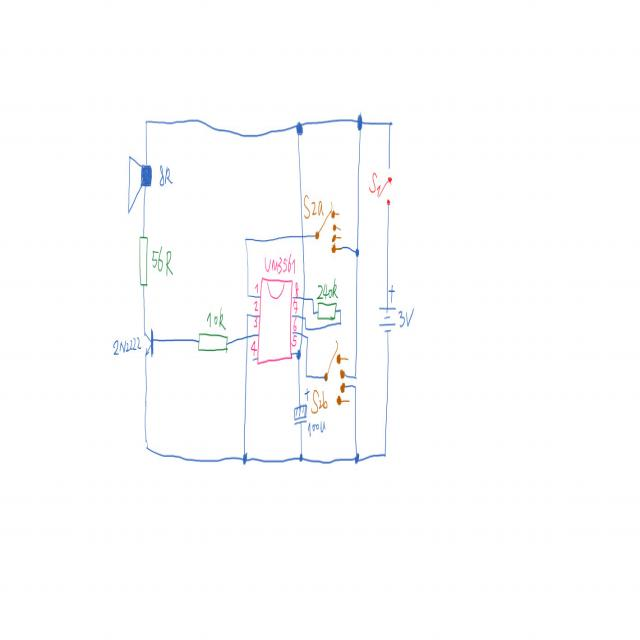capacitor: (291, 384, 311, 428)
crossover: (244, 331, 249, 342), (300, 230, 304, 240), (300, 330, 303, 336), (301, 312, 303, 320), (302, 295, 304, 300)
junction: (355, 111, 363, 131), (295, 119, 303, 136), (241, 450, 248, 464), (295, 346, 301, 360), (144, 440, 150, 453), (353, 451, 359, 463), (387, 116, 393, 128), (143, 116, 149, 128), (244, 308, 250, 320), (354, 245, 359, 258), (298, 449, 303, 462), (352, 381, 357, 392), (352, 370, 357, 380), (382, 449, 387, 458), (245, 289, 250, 298), (304, 370, 308, 380), (304, 331, 308, 341), (243, 234, 247, 243), (310, 296, 314, 303), (339, 318, 341, 326), (338, 306, 341, 310), (304, 316, 306, 320), (312, 310, 314, 314), (304, 324, 306, 328)
resistor: (196, 328, 229, 356), (134, 233, 149, 288), (315, 301, 337, 320)
source: (378, 282, 398, 335)
switch: (323, 337, 349, 407), (314, 198, 342, 254), (377, 166, 393, 204)
text: (110, 332, 140, 358), (150, 242, 172, 277), (264, 252, 296, 274), (302, 193, 324, 219), (206, 304, 226, 330), (309, 386, 326, 414), (316, 278, 338, 298), (306, 417, 327, 437), (398, 304, 414, 328), (158, 162, 172, 187), (368, 169, 380, 197), (250, 315, 258, 330), (290, 332, 297, 348), (250, 338, 256, 356), (292, 298, 298, 314), (294, 279, 299, 298), (252, 298, 258, 313), (252, 282, 258, 294), (293, 316, 297, 331)
transistor: (140, 318, 156, 364)
